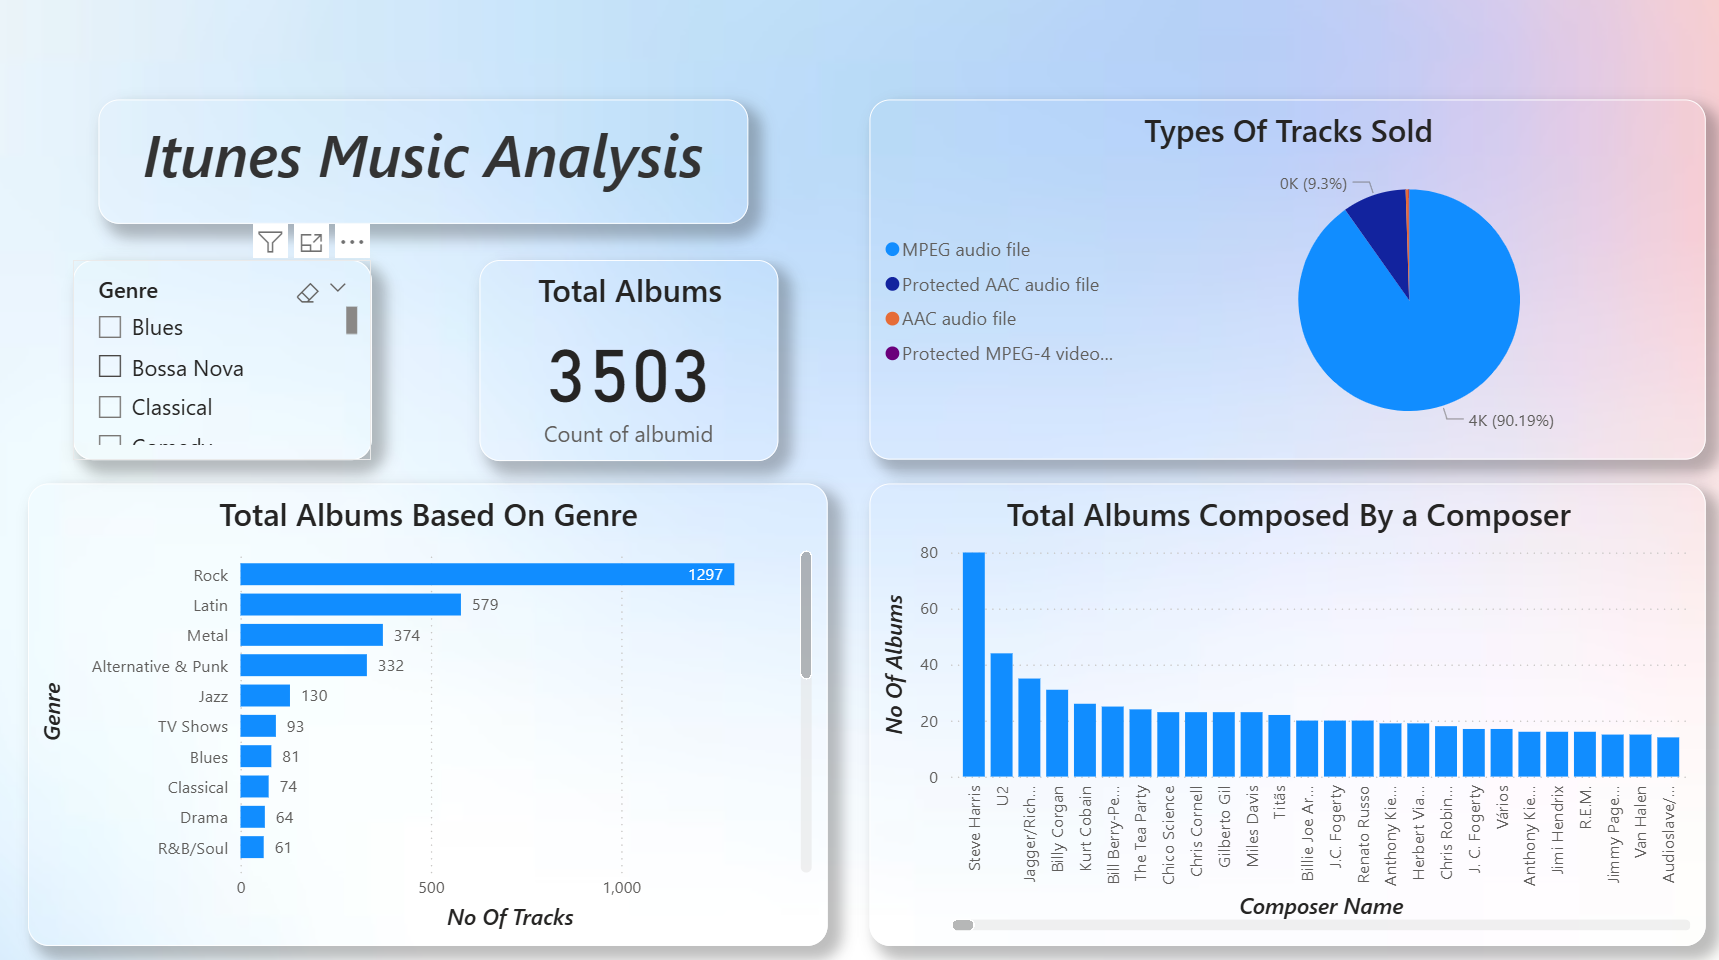

What the dashboard file says about the page in this screenshot:
{"tool":"powerbi","page":{"name":"Page 2","canvas":[1280,720],"ordinal":1},"visuals":[{"type":"textbox","box":[77.5,80.4,473.9,90.5],"z":0},{"type":"barChart","title":"Total Albums Based On Genre","fields":{"Category":["public genre.name"],"Y":["public track.trackid"]},"box":[25.8,360.5,583,337.5],"z":1000},{"type":"columnChart","title":"Total Albums Composed By a Composer","fields":{"Y":["public track.albumid"],"Category":["public track.composer"]},"box":[640.5,360.5,610.3,337.5],"z":2000},{"type":"pieChart","title":"Types Of Tracks Sold","fields":{"Y":["public invoice_line.quantity"],"Category":["public media_type.name"]},"box":[640.5,80.4,610.3,262.8],"z":3000},{"type":"slicer","fields":{"Values":["public genre.name"]},"box":[58.9,196.7,218,146],"z":4000},{"type":"card","title":"Total Albums","fields":{"Values":["public track.albumid"]},"box":[356.1,196.7,218.3,146.5],"z":5000}]}

Visuals, with their boxes in screenshot pixels (x1, y1, x2, y2), scaled from the page's 1280x720 canvas onto the 1719x960 screenshot:
textbox: 104 107 741 228
"Total Albums Based On Genre" barChart: 35 481 818 931
"Total Albums Composed By a Composer" columnChart: 860 481 1680 931
"Types Of Tracks Sold" pieChart: 860 107 1680 458
slicer - public genre.name: 79 262 372 457
"Total Albums" card: 478 262 771 458
